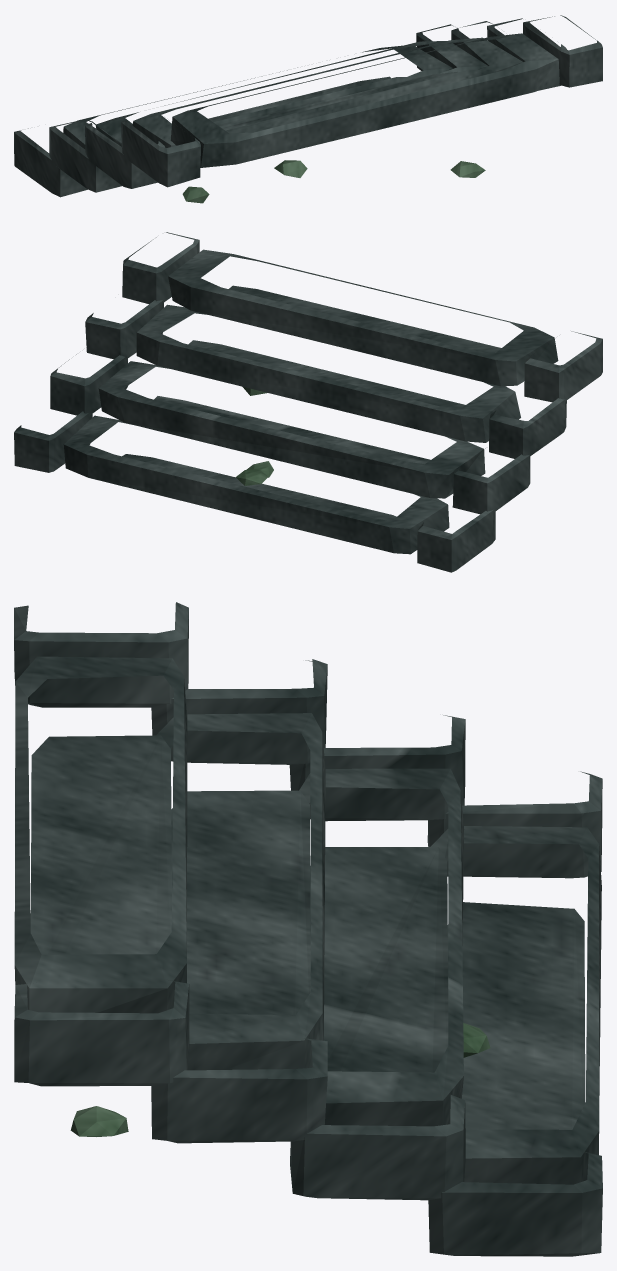
The model's file is 0365_stairs_15.glb.
3 views of the same model, one above another, from view 1: azimuth 30°, elevation 25°; view 2: azimuth 150°, elevation 25°; view 3: azimuth 270°, elevation 25° (orthographic). The views are drawn at different scales.
Parts seen in each view (by area): view 1: stone_dark, moss; view 2: stone_dark, moss; view 3: stone_dark, moss.
Boxes of the visible parts, bbox=[...] form: stone_dark: bbox=[14, 15, 602, 197]; moss: bbox=[182, 160, 485, 203]; stone_dark: bbox=[14, 232, 602, 572]; moss: bbox=[236, 386, 273, 485]; stone_dark: bbox=[14, 602, 602, 1256]; moss: bbox=[70, 1023, 490, 1136].
Size of the model in its own units: 3.14 by 0.871 by 1.88.
2 materials, 2 textured.
